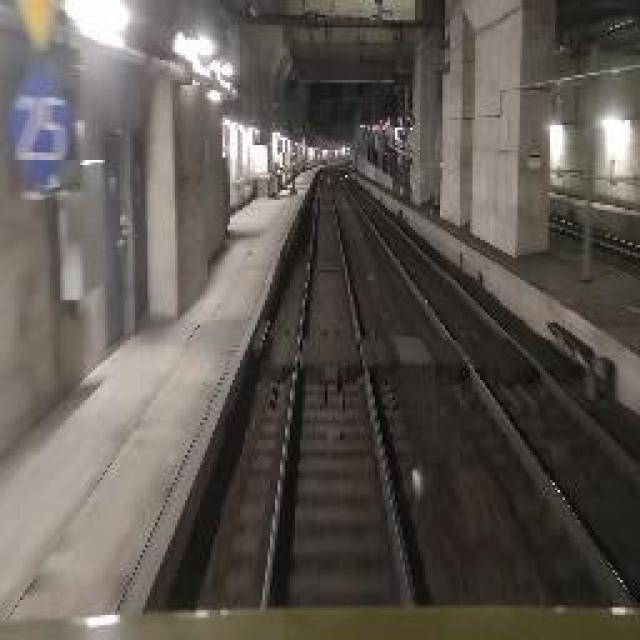rail: (233, 165, 444, 607)
